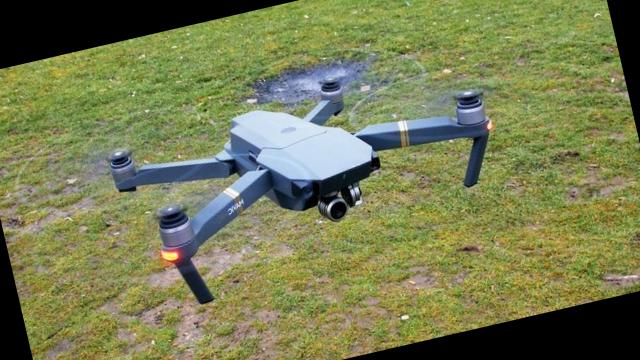drone: (51, 18, 549, 340)
